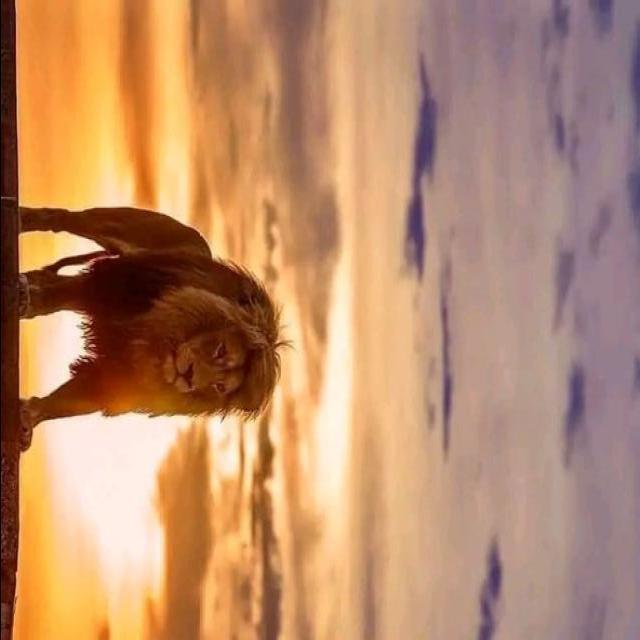lions: (15, 96, 466, 640)
